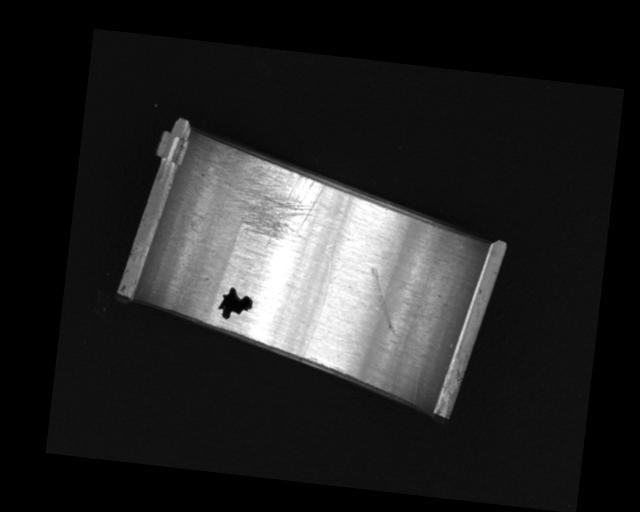blot: (216, 285, 254, 323)
nick: (301, 243, 337, 361), (363, 265, 404, 337)
scratch: (208, 144, 329, 254)
